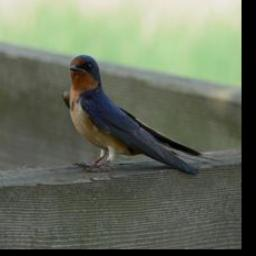Swallow: (61, 52, 227, 178)
